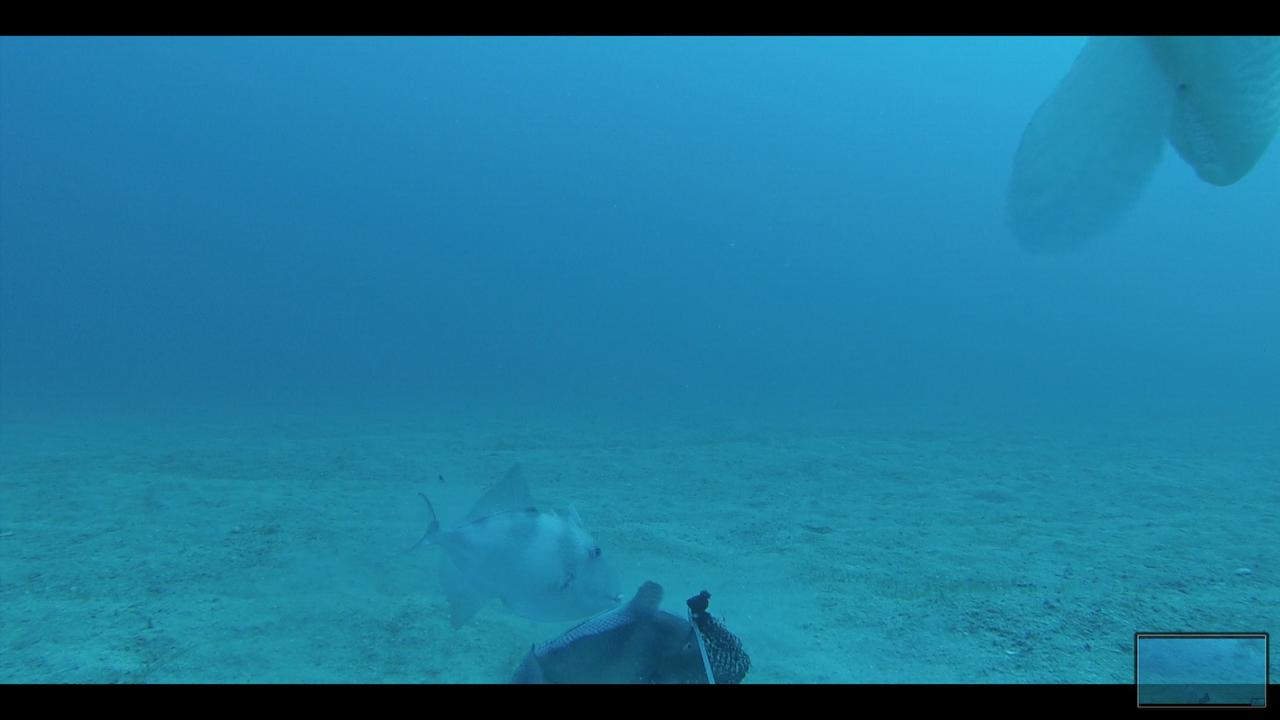balistes: (395, 466, 624, 633), (510, 578, 703, 681)
